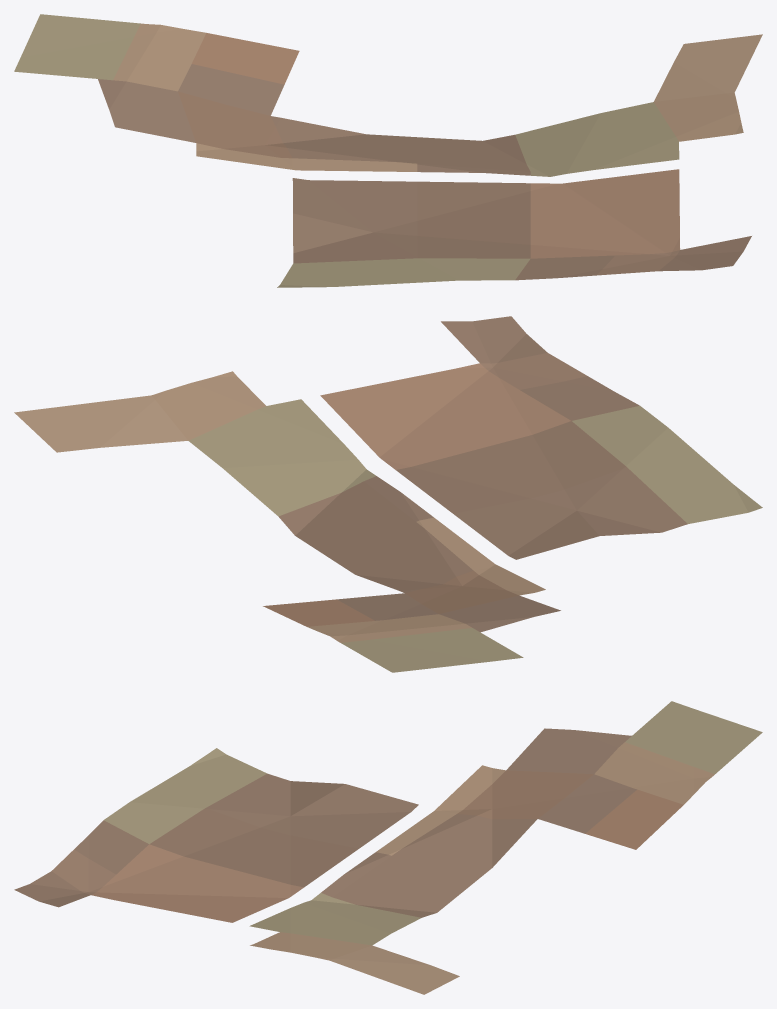
Rendered from farm_18_26_soil.glb.
3 views of the same model, one above another, from view 1: azimuth 30°, elevation 25°; view 2: azimuth 150°, elevation 25°; view 3: azimuth 270°, elevation 25° (orthographic). The views are drawn at different scales.
Parts seen in each view (by area): view 1: geometry_0; view 2: geometry_0; view 3: geometry_0.
Boxes of the visible parts, bbox=[...] form: geometry_0: bbox=[14, 14, 762, 287]; geometry_0: bbox=[14, 316, 762, 672]; geometry_0: bbox=[14, 701, 762, 994].
Bounding box in the file's own units: 262 × 25.93 × 297.
